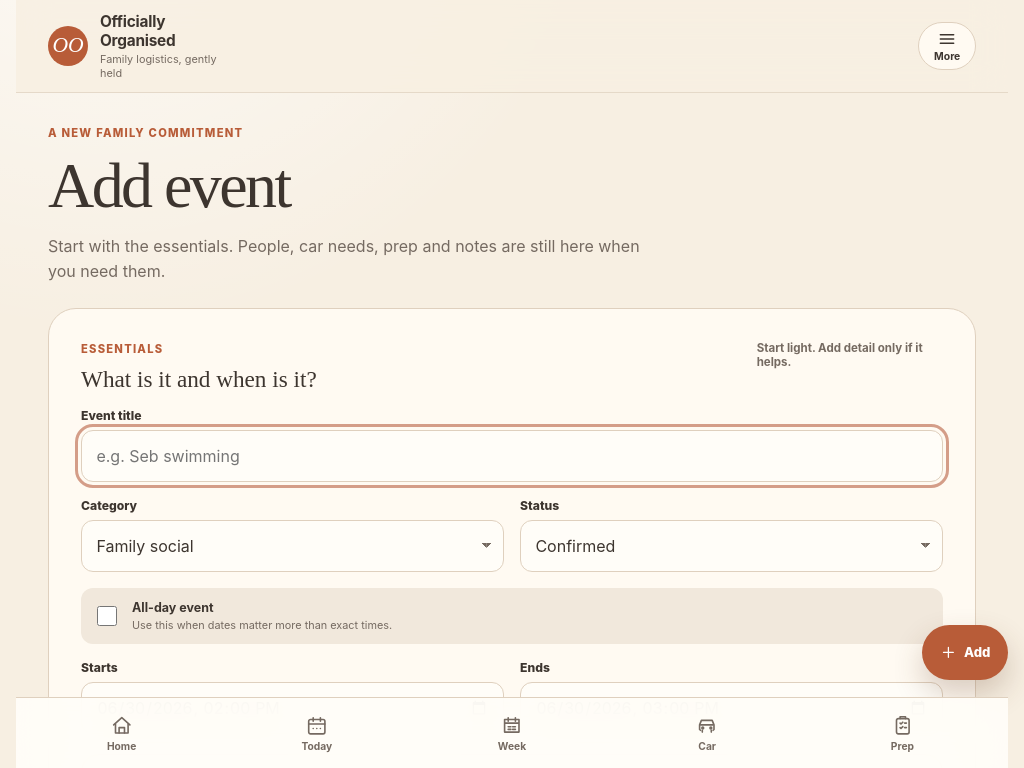
Test: event form routine bridge › navigates to routines with transient prefill and creates nothing before save
Type "Seb swimming" into the field labelled "Event title" at (512, 456), box [81,430,943,482]
(page scrolled)
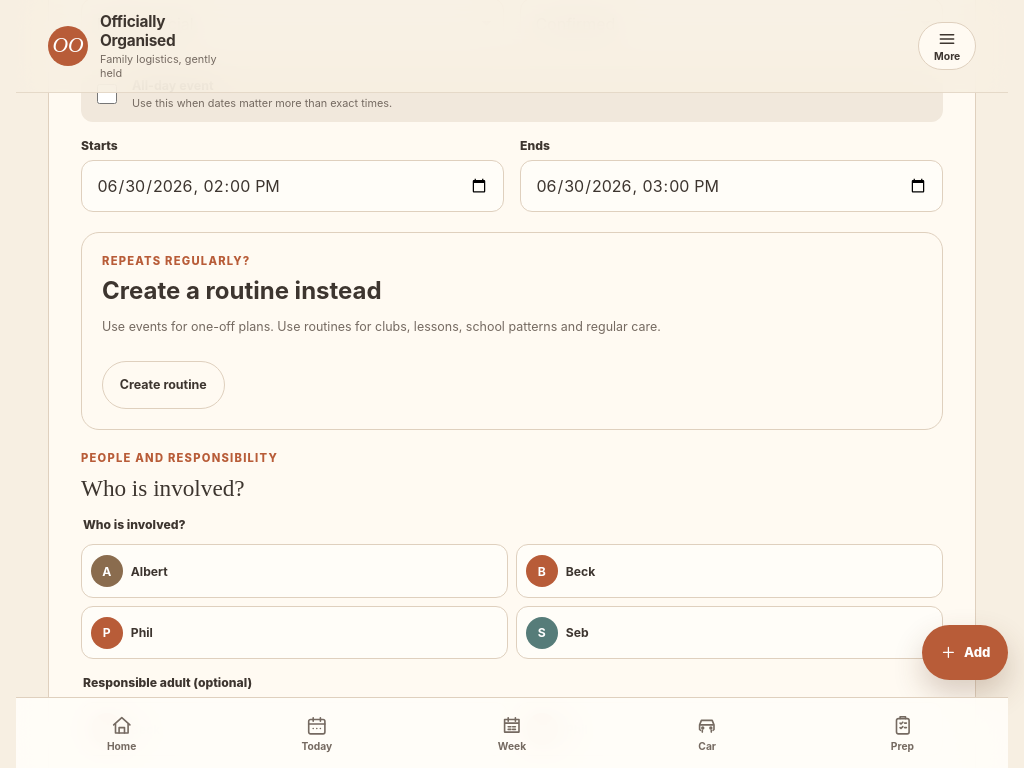
Click the button "Create routine" at (163, 385), box [102,361,224,409]
(page scrolled)
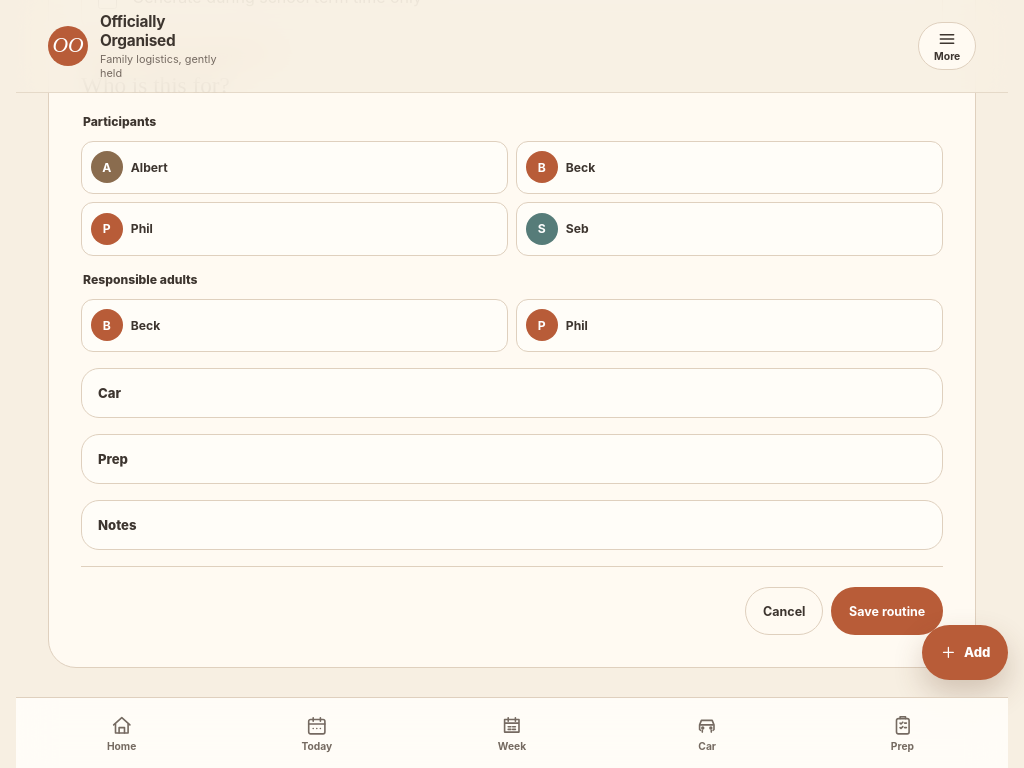
Click the button "Cancel" at (784, 611), box [745,587,823,635]
(page scrolled)
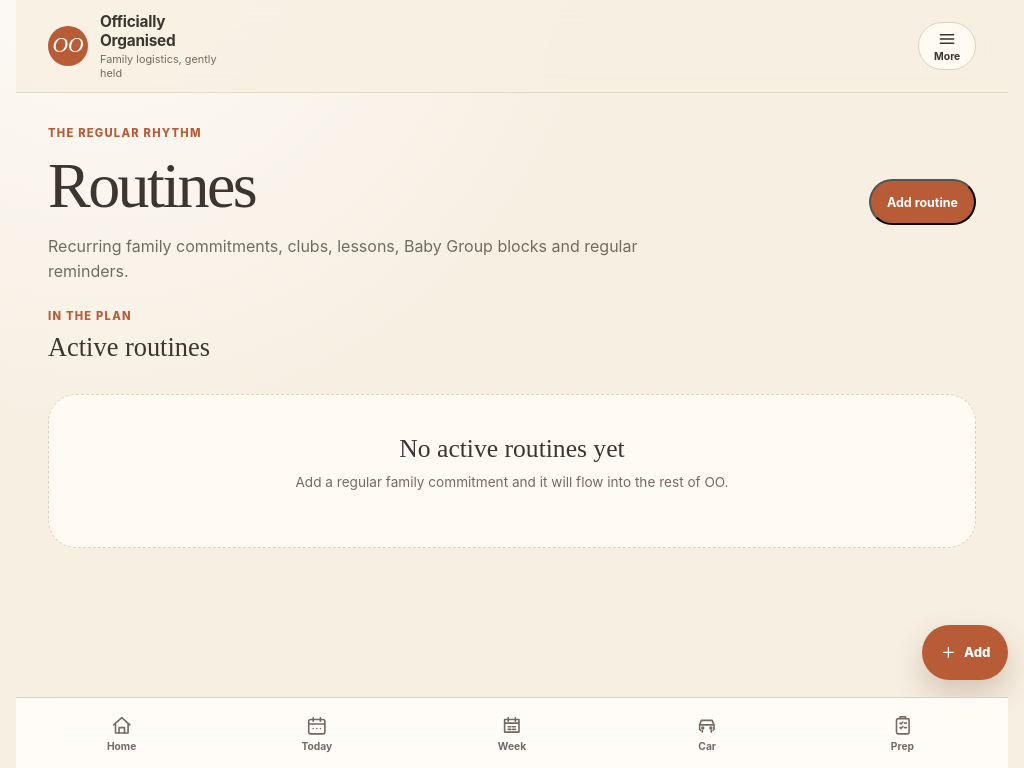
Now the button "Save routine" is gone
